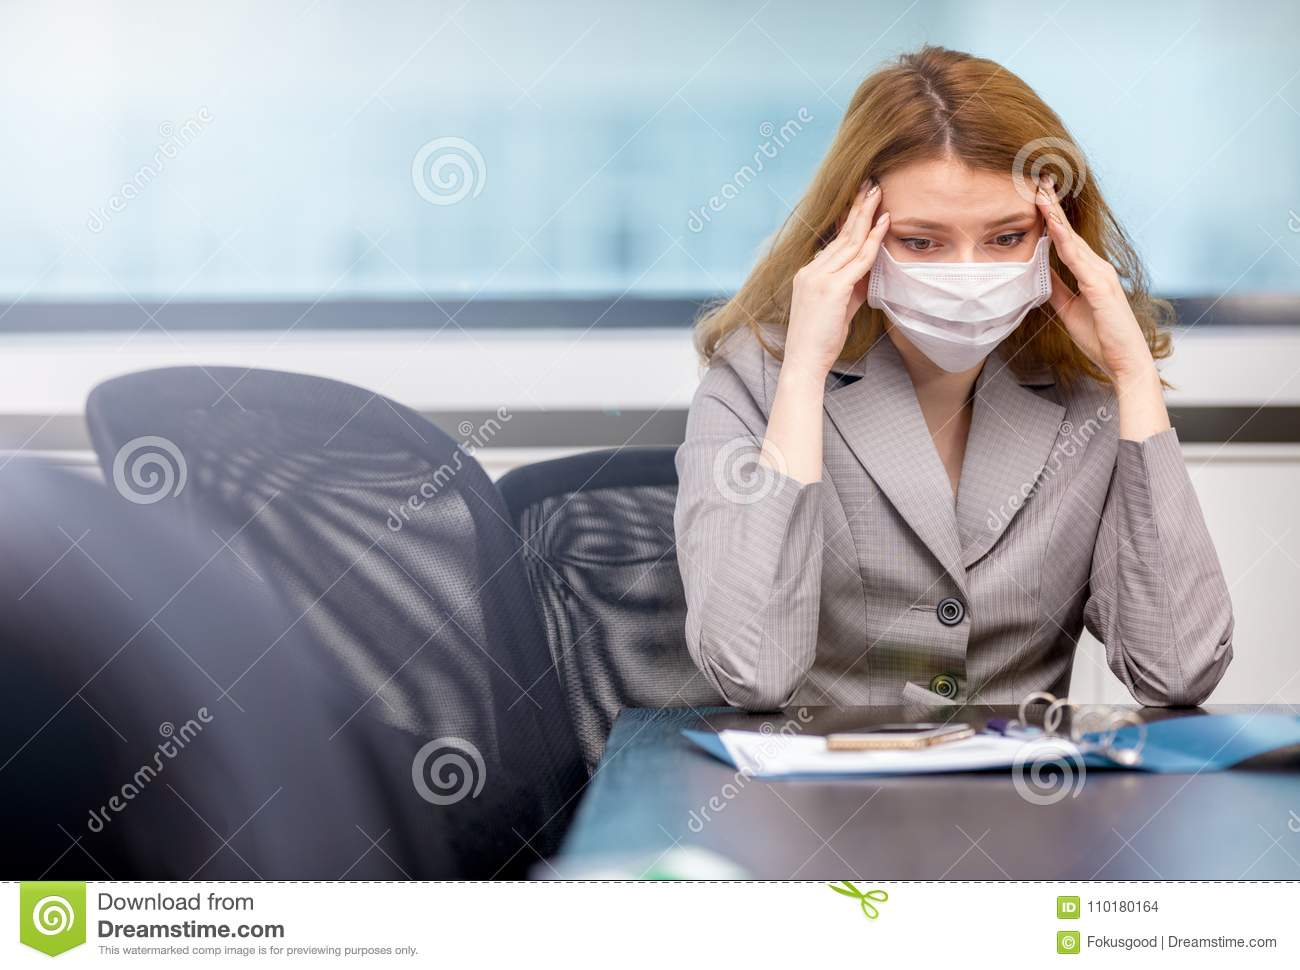mask: (868, 247, 1057, 381)
